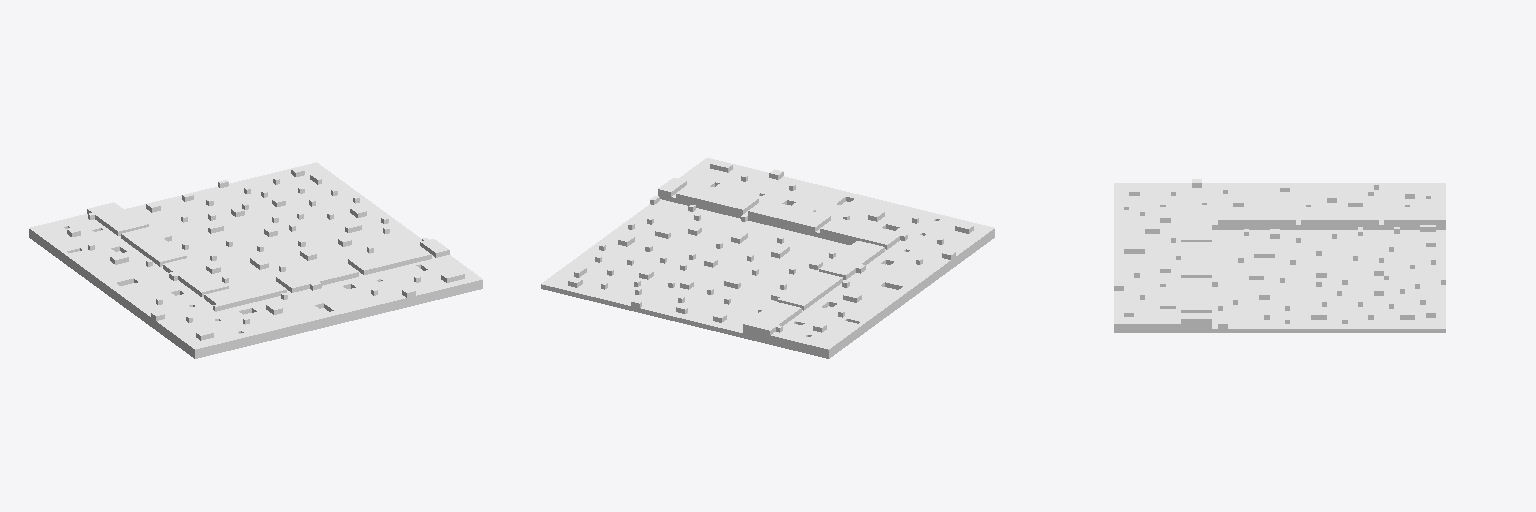
The model's file is EarthPathTurn_2.obj.
3 views of the same model, side by side, from view 1: azimuth 30°, elevation 25°; view 2: azimuth 150°, elevation 25°; view 3: azimuth 270°, elevation 25° (orthographic).
Parts seen in each view (by area): view 1: EarthPathTurn_2; view 2: EarthPathTurn_2; view 3: EarthPathTurn_2.
Part boxes in pixels (left/top/right/bottom): EarthPathTurn_2: left=29, top=162, right=482, bottom=358; EarthPathTurn_2: left=541, top=158, right=994, bottom=358; EarthPathTurn_2: left=1114, top=179, right=1445, bottom=332.
Bounding box in the file's own units: 1 × 0.0469 × 1.